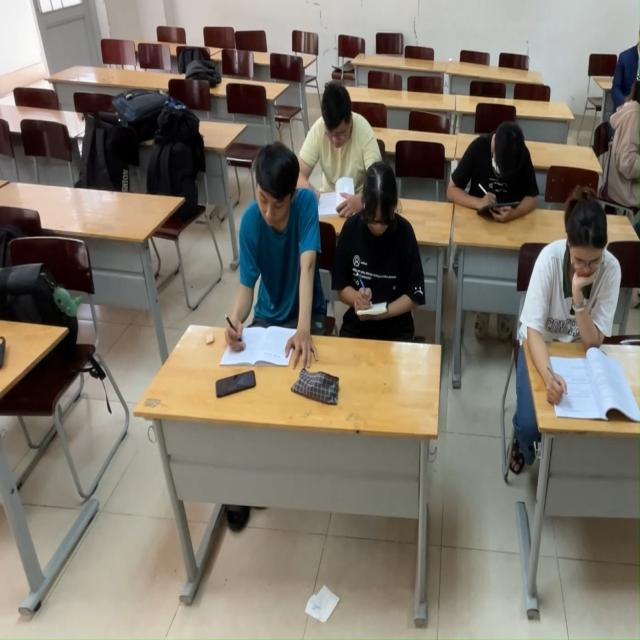read: (527, 175, 640, 419), (328, 153, 434, 348), (225, 137, 312, 372), (451, 107, 536, 248)
